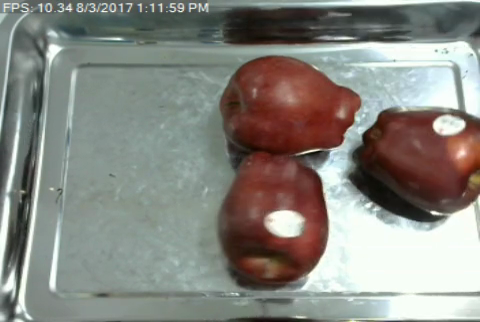Apple: (214, 149, 335, 291), (217, 53, 367, 158), (360, 100, 480, 215)
